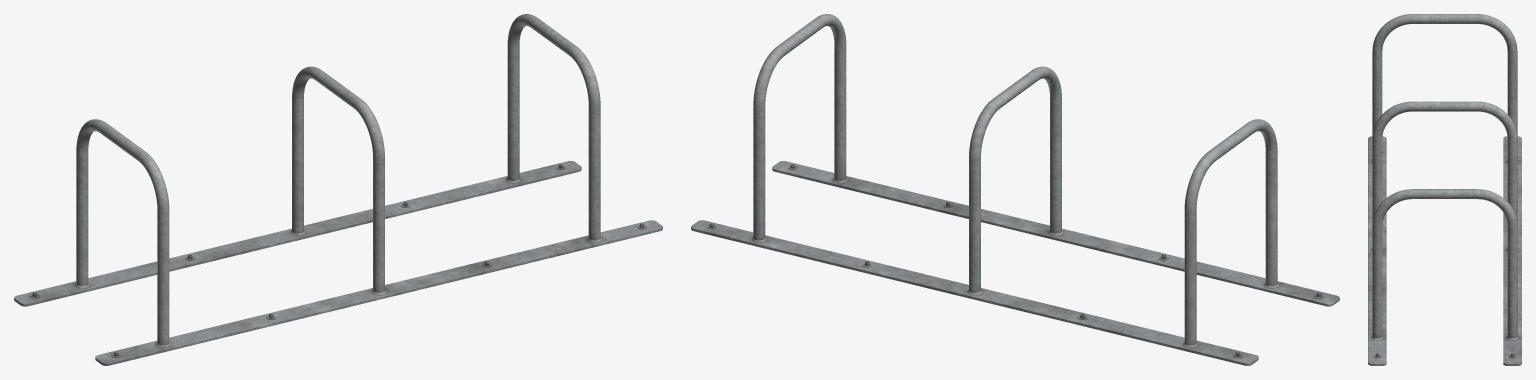
Rendered from bike-rack.glb.
3 renders of one model, left to right at view 1: azimuth 30°, elevation 25°; view 2: azimuth 150°, elevation 25°; view 3: azimuth 270°, elevation 25°, orthographic. The views are drawn at different scales.
Visible parts, largest first — view 1: bike-rack_body; view 2: bike-rack_body; view 3: bike-rack_body.
Part boxes in pixels (bbox=[...]): bike-rack_body: bbox=[14, 14, 662, 365]; bike-rack_body: bbox=[691, 14, 1339, 365]; bike-rack_body: bbox=[1368, 14, 1521, 365].
Bounding box in the file's own units: 2.6 × 0.8 × 0.7417.
Materials: 1 (1 with a texture image).
